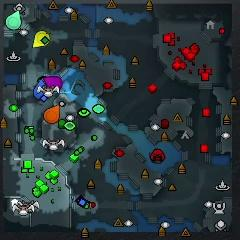p1: (33, 79, 46, 101)
p2: (5, 11, 22, 29)
p3: (42, 76, 63, 88)
p4: (32, 31, 50, 48)
p5: (43, 105, 61, 124)
